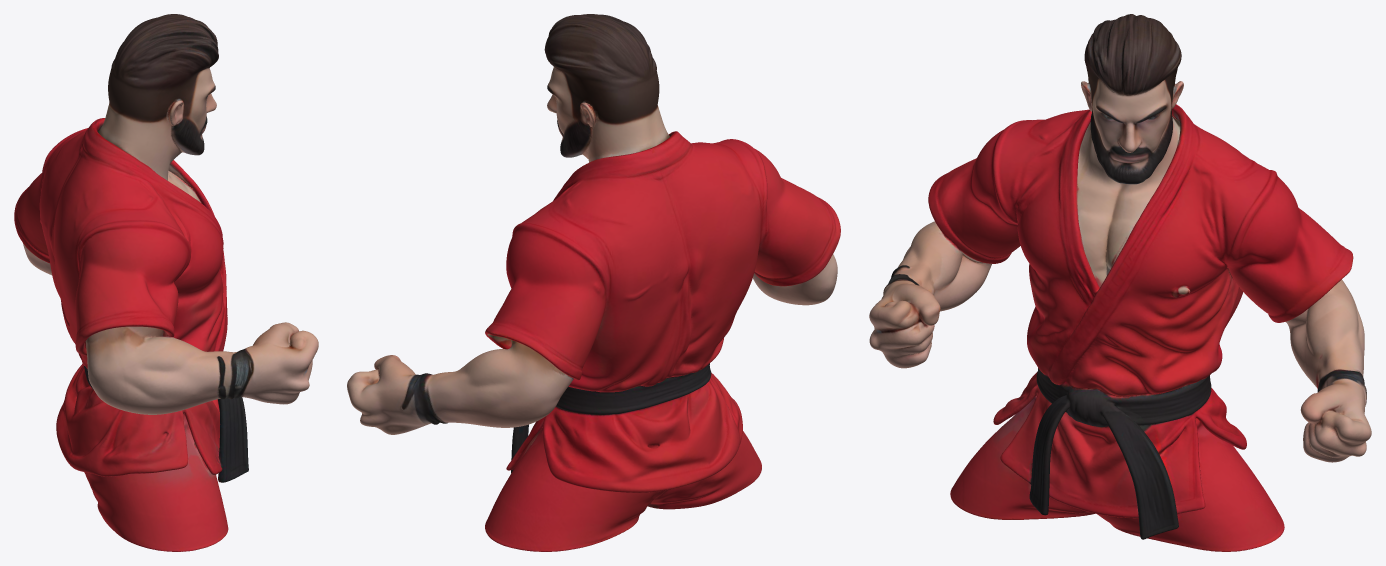
The model's file is fighter_red.glb.
The picture shows the model from 3 angles, left to right: view 1: azimuth 30°, elevation 25°; view 2: azimuth 150°, elevation 25°; view 3: azimuth 270°, elevation 25°; orthographic projection. The views are drawn at different scales.
Visible parts, largest first — view 1: tripo_node_65430181-14cb-4457-af94-77c47bb6f6b5; view 2: tripo_node_65430181-14cb-4457-af94-77c47bb6f6b5; view 3: tripo_node_65430181-14cb-4457-af94-77c47bb6f6b5.
Boxes of the visible parts, left/top/right/bottom form: tripo_node_65430181-14cb-4457-af94-77c47bb6f6b5: left=14, top=14, right=318, bottom=551; tripo_node_65430181-14cb-4457-af94-77c47bb6f6b5: left=347, top=14, right=840, bottom=551; tripo_node_65430181-14cb-4457-af94-77c47bb6f6b5: left=869, top=14, right=1371, bottom=551.
Size of the model in its own units: 0.6805 by 1 by 0.909.
1 material, 1 textured.
